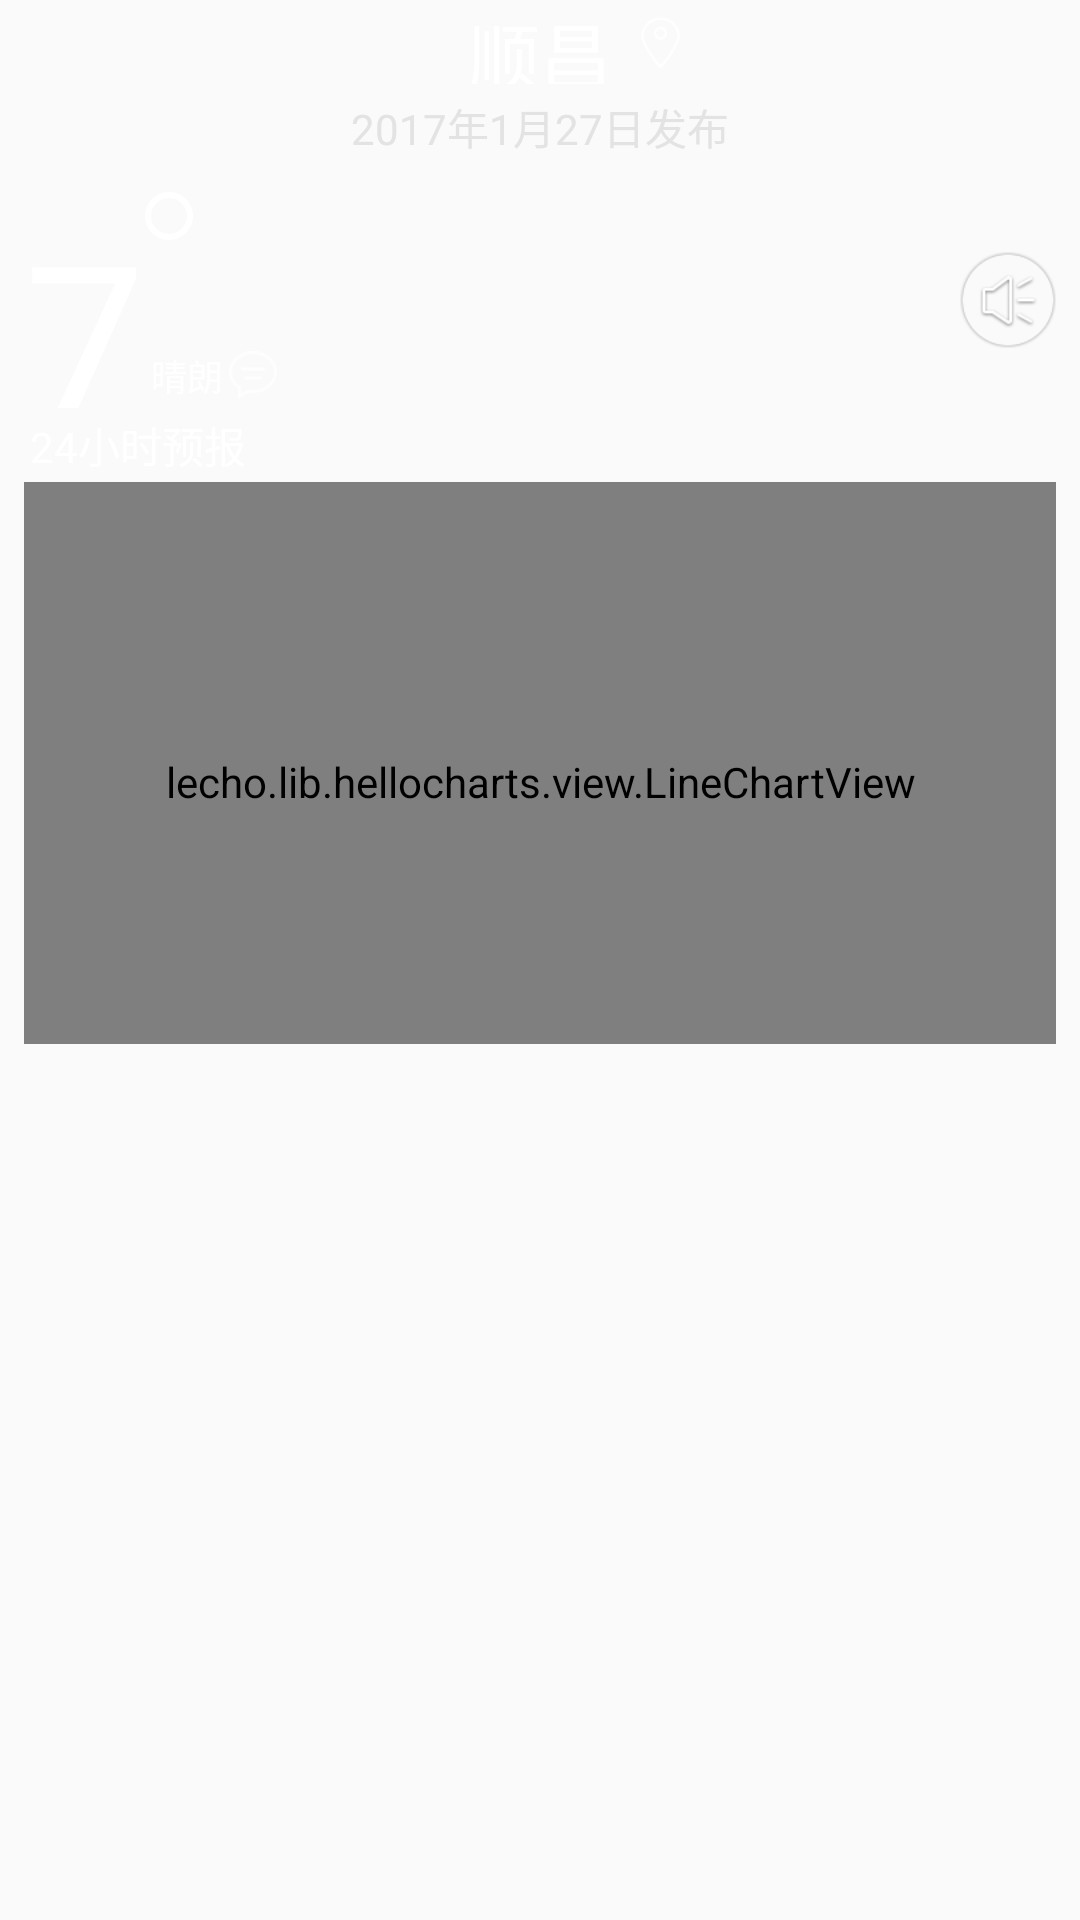

Icons on this 1080px×1920px Android screen, each with its box as (x1, y1, x2, y2):
animation voice: (961, 253, 1055, 347)
